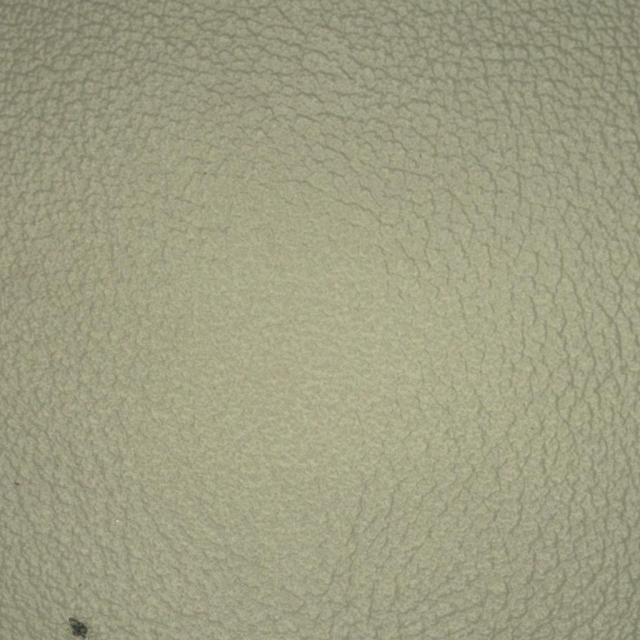Hole: (23, 534, 198, 636)
